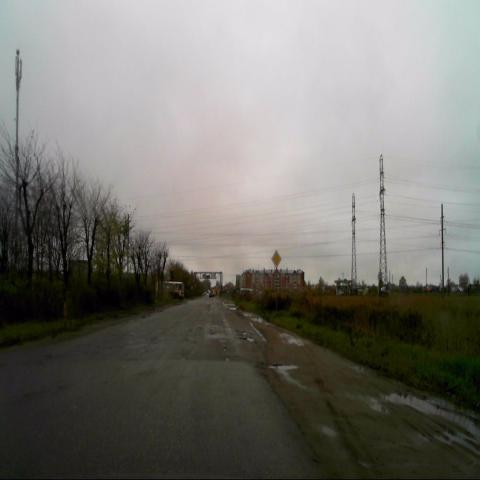2_1: (271, 249, 281, 268)
